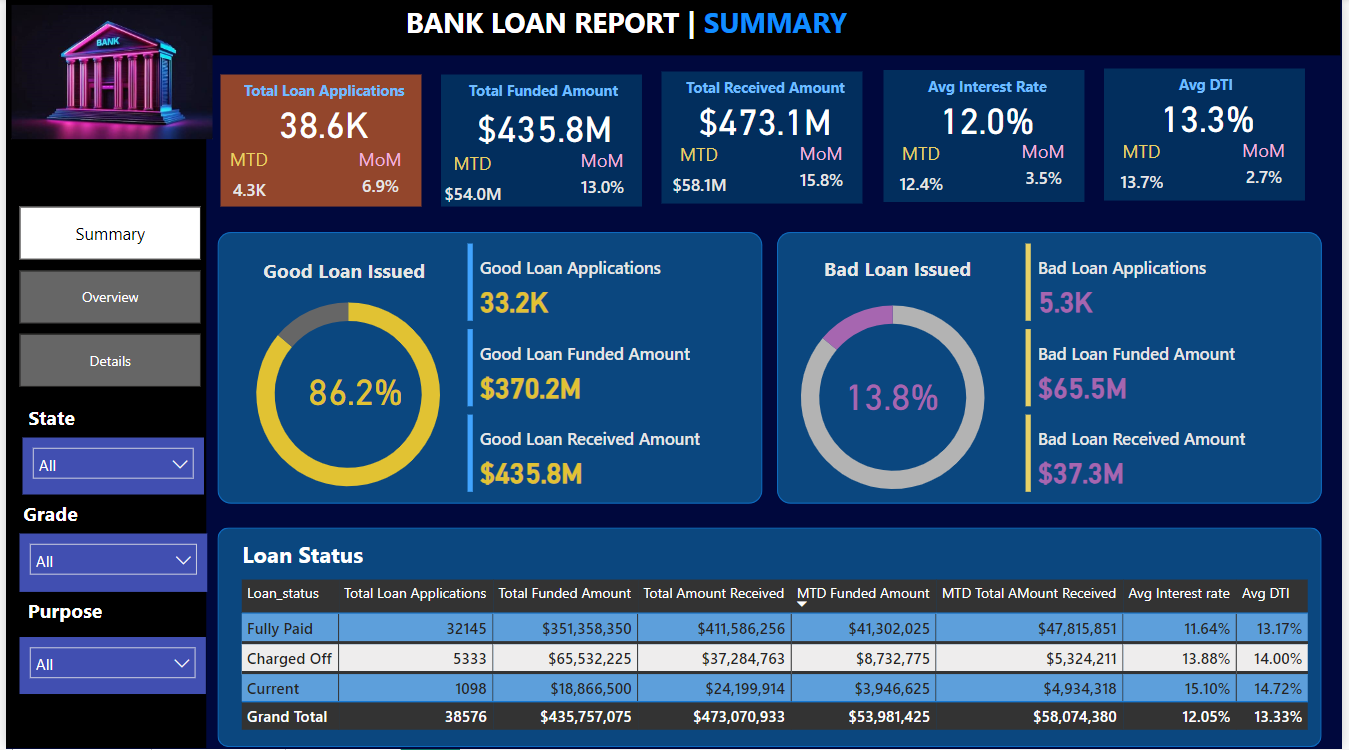

Layout of this report page (visuals, bound fields, positions):
{"tool":"powerbi","page":{"name":"Summary","canvas":[1280,720],"ordinal":0},"visuals":[{"type":"shape","box":[0,53,192.3,666.3],"z":0},{"type":"shape","box":[0,0,1279.4,55],"z":1000},{"type":"shape","box":[202.9,507.3,1058.4,210.5],"z":2000},{"type":"textbox","box":[378,0,455.4,51],"z":3000},{"type":"shape","box":[1053.1,68.1,192.8,126.6],"z":3000,"group":"g5"},{"type":"shape","box":[841.3,69.7,192.8,126.6],"z":3000,"group":"g4"},{"type":"shape","box":[629.4,71.2,192.8,126.6],"z":3000,"group":"g3"},{"type":"shape","box":[416.3,72.7,192.8,126.6],"z":3000,"group":"g2"},{"type":"shape","box":[206,73.7,192.8,126.6],"z":3000,"group":"g1"},{"type":"shape","box":[739.4,225,522.4,260.4],"z":3000,"group":"g7"},{"type":"group","id":"g1","title":"Group 1","box":[179.5,73.7,249.5,130.7],"z":4000},{"type":"textbox","box":[1041.7,68.1,219.2,39.7],"z":5000,"group":"g5"},{"type":"textbox","box":[829.9,69.7,219.2,39.7],"z":5000,"group":"g4"},{"type":"textbox","box":[618,71.2,219.2,39.7],"z":5000,"group":"g3"},{"type":"group","id":"g2","title":"Group 1","box":[391,72.7,249.8,136.3],"z":5000},{"type":"textbox","box":[405,72.7,219.2,39.7],"z":5000,"group":"g2"},{"type":"textbox","box":[194.6,73.7,219.2,39.7],"z":5000,"group":"g1"},{"type":"group","id":"g3","title":"Group 1","box":[602.9,71.2,249.8,130.2],"z":6000},{"type":"card","title":"MTD","fields":{"Values":["Bank_loan_data.MTD Avg DTI"]},"box":[1048.3,135.9,80.3,62.1],"z":6000,"group":"g5"},{"type":"card","title":"MTD","fields":{"Values":["Bank_loan_data.MTD Avg Interest Rate"]},"box":[836.5,137.5,80.3,62.1],"z":6000,"group":"g4"},{"type":"card","title":"MTD","fields":{"Values":["Bank_loan_data.MTD Total AMount Received"]},"box":[624.6,139,80.3,62.1],"z":6000,"group":"g3"},{"type":"card","title":"MTD","fields":{"Values":["Bank_loan_data.MTD Loan Applications"]},"box":[192.3,142.3,80.3,62.1],"z":6000,"group":"g1"},{"type":"card","title":"MTD","fields":{"Values":["Bank_loan_data.MTD Funded Amount"]},"box":[407.1,146.6,80.3,62.1],"z":6000,"group":"g2"},{"type":"group","id":"g4","title":"Group 1","box":[814.8,69.7,249.8,130.2],"z":7000},{"type":"card","title":"MoM","fields":{"Values":["Bank_loan_data.MoM Avg DTI"]},"box":[1166.4,134.4,78.7,54.5],"z":7000,"group":"g5"},{"type":"card","title":"MoM","fields":{"Values":["Bank_loan_data.MoM Avg Interest Rate"]},"box":[954.6,136,78.7,54.5],"z":7000,"group":"g4"},{"type":"card","title":"MoM","fields":{"Values":["Bank_loan_data.MoM Total Amount Received"]},"box":[742.7,137.5,78.7,54.5],"z":7000,"group":"g3"},{"type":"card","title":"MoM","fields":{"Values":["Bank_loan_data.MoM Loan Applications"]},"box":[319.5,142.3,78.7,54.5],"z":7000,"group":"g1"},{"type":"card","title":"MoM","fields":{"Values":["Bank_loan_data.MoM Total FUnded Amount"]},"box":[531.2,143.6,78.7,54.5],"z":7000,"group":"g2"},{"type":"shape","box":[203.3,225,522.4,260.4],"z":7000,"group":"g6"},{"type":"group","id":"g5","title":"Group 1","box":[1026.6,68.1,249.8,130.2],"z":8000},{"type":"textbox","box":[214.4,243.3,220,38.3],"z":8000,"group":"g6"},{"type":"group","id":"g6","title":"Group 2","box":[203.3,225,522.4,271],"z":9000},{"type":"group","id":"g7","title":"Group 3","box":[725,225,536.8,273.3],"z":10000},{"type":"card","fields":{"Values":["Bank_loan_data.Avg DTI"]},"box":[1026.6,88.9,249.5,51],"z":11000,"group":"g5"},{"type":"card","fields":{"Values":["Bank_loan_data.Average Interest rate"]},"box":[814.8,90.5,249.5,51],"z":11000,"group":"g4"},{"type":"card","fields":{"Values":["Bank_loan_data.Total AMount Received"]},"box":[602.9,92,249.5,51],"z":11000,"group":"g3"},{"type":"card","fields":{"Values":["Bank_loan_data.Total Loan Applications"]},"box":[179.5,94.5,249.5,51],"z":11000,"group":"g1"},{"type":"card","fields":{"Values":["Bank_loan_data.Total Funded Amount"]},"box":[391,96.6,249.8,50],"z":11000,"group":"g2"},{"type":"donutChart","fields":{"Category":["Bank_loan_data.Good vs Bad Loan"],"Y":["Bank_loan_data.Total Loan Applications"]},"box":[203.3,265.9,249.8,230.2],"z":11000,"group":"g6"},{"type":"tableEx","fields":{"Values":["Bank_loan_data.loan_status","Bank_loan_data.Total Loan Applications","Bank_loan_data.Total Funded Amount","Bank_loan_data.Total AMount Received","Bank_loan_data.MTD Funded Amount","Bank_loan_data.MTD Total AMount Received","Bank_loan_data.Average Interest rate","Bank_loan_data.Avg DTI"]},"box":[220,551.7,1035,166.7],"z":11000},{"type":"card","fields":{"Values":["Bank_loan_data.Good Loan %"]},"box":[257.8,343.1,154.4,63.6],"z":12000,"group":"g6"},{"type":"textbox","box":[12.1,384.6,122.7,43.9],"z":12000},{"type":"cardVisual","fields":{"Data":["Bank_loan_data.Good Loan Applications","Bank_loan_data.Good Loan Funded Amount","Bank_loan_data.Good Loan Received Amount"]},"box":[438,231.1,281.6,248.3],"z":13000,"group":"g6"},{"type":"slicer","fields":{"Values":["Bank_loan_data.address_state"]},"box":[15.1,420.9,174.1,54.5],"z":13000},{"type":"donutChart","fields":{"Category":["Bank_loan_data.Good vs Bad Loan"],"Y":["Bank_loan_data.Total Loan Applications"]},"box":[725,268.3,250,230],"z":14000,"group":"g7"},{"type":"textbox","box":[221.1,513.3,166.6,43.9],"z":14000},{"type":"textbox","box":[745,241.7,220,40],"z":15000,"group":"g7"},{"type":"slicer","fields":{"Values":["Bank_loan_data.grade"]},"box":[13.6,513.3,180.2,56],"z":15000},{"type":"card","fields":{"Values":["Bank_loan_data.Bad Loan %"]},"box":[771.9,348.3,153.3,63.3],"z":16000,"group":"g7"},{"type":"slicer","fields":{"Values":["Bank_loan_data.purpose"]},"box":[13.6,613.3,178.7,54.5],"z":16000},{"type":"cardVisual","fields":{"Data":["Bank_loan_data.Bad Loan Applications","Bank_loan_data.Bad Loan Funded Amount","Bank_loan_data.Bad Loan Received Amount"]},"box":[972.6,231.1,281.6,248.3],"z":17000,"group":"g7"},{"type":"textbox","box":[12.1,475.5,166.6,42.4],"z":17000},{"type":"textbox","box":[15.1,569.3,166.6,43.9],"z":18000},{"type":"image","box":[0,0,202.9,142.3],"z":19000},{"type":"pageNavigator","box":[13.6,199.9,174.1,175.6],"z":20000}]}

Visuals, with their boxes in screenshot pixels (x1, y1, x2, y2), scaled from the page's 1280x720 canvas onto the 1349x750 screenshot:
shape: (0,55,203,749)
shape: (0,0,1348,57)
shape: (214,528,1329,748)
textbox: (398,0,878,53)
shape: (1110,71,1313,203)
shape: (887,73,1090,204)
shape: (663,74,867,206)
shape: (439,76,642,208)
shape: (217,77,420,209)
shape: (779,234,1330,506)
"Group 1" group: (189,77,452,213)
textbox: (1098,71,1329,112)
textbox: (875,73,1106,114)
textbox: (651,74,882,116)
"Group 1" group: (412,76,675,218)
textbox: (427,76,658,117)
textbox: (205,77,436,118)
"Group 1" group: (635,74,899,210)
"MTD" card: (1105,142,1189,206)
"MTD" card: (882,143,966,208)
"MTD" card: (658,145,743,209)
"MTD" card: (203,148,287,213)
"MTD" card: (429,153,514,217)
"Group 1" group: (859,73,1122,208)
"MoM" card: (1229,140,1312,197)
"MoM" card: (1006,142,1089,198)
"MoM" card: (783,143,866,200)
"MoM" card: (337,148,420,205)
"MoM" card: (560,150,643,206)
shape: (214,234,765,506)
"Group 1" group: (1082,71,1345,207)
textbox: (226,253,458,293)
"Group 2" group: (214,234,765,517)
"Group 3" group: (764,234,1330,519)
card - Bank_loan_data.Avg DTI: (1082,93,1345,146)
card - Bank_loan_data.Average Interest rate: (859,94,1122,147)
card - Bank_loan_data.Total AMount Received: (635,96,898,149)
card - Bank_loan_data.Total Loan Applications: (189,98,452,152)
card - Bank_loan_data.Total Funded Amount: (412,101,675,153)
donutChart - Bank_loan_data.Good vs Bad Loan x Bank_loan_data.Total Loan Applications: (214,277,478,517)
tableEx - Bank_loan_data.loan_status x Bank_loan_data.Total Loan Applications: (232,575,1323,748)
card - Bank_loan_data.Good Loan %: (272,357,434,424)
textbox: (13,401,142,446)
cardVisual - Bank_loan_data.Good Loan Applications x Bank_loan_data.Good Loan Funded Amount: (462,241,758,499)
slicer - Bank_loan_data.address_state: (16,438,199,495)
donutChart - Bank_loan_data.Good vs Bad Loan x Bank_loan_data.Total Loan Applications: (764,279,1028,519)
textbox: (233,535,409,580)
textbox: (785,252,1017,293)
slicer - Bank_loan_data.grade: (14,535,204,593)
card - Bank_loan_data.Bad Loan %: (814,363,975,429)
slicer - Bank_loan_data.purpose: (14,639,203,696)
cardVisual - Bank_loan_data.Bad Loan Applications x Bank_loan_data.Bad Loan Funded Amount: (1025,241,1322,499)
textbox: (13,495,188,539)
textbox: (16,593,191,639)
image: (0,0,214,148)
pageNavigator: (14,208,198,391)
